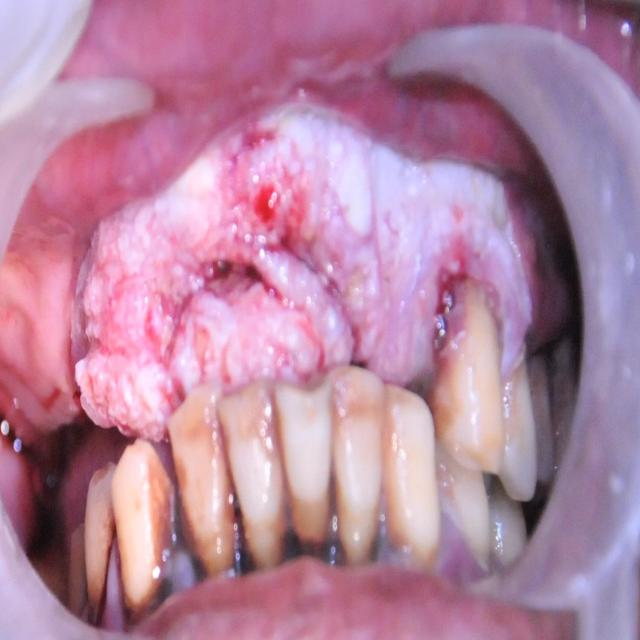cancer-detection: (69, 101, 538, 442)
processing_area: (0, 74, 567, 444)
